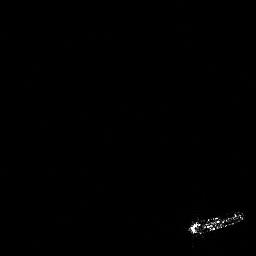ship: (185, 208, 245, 236)
